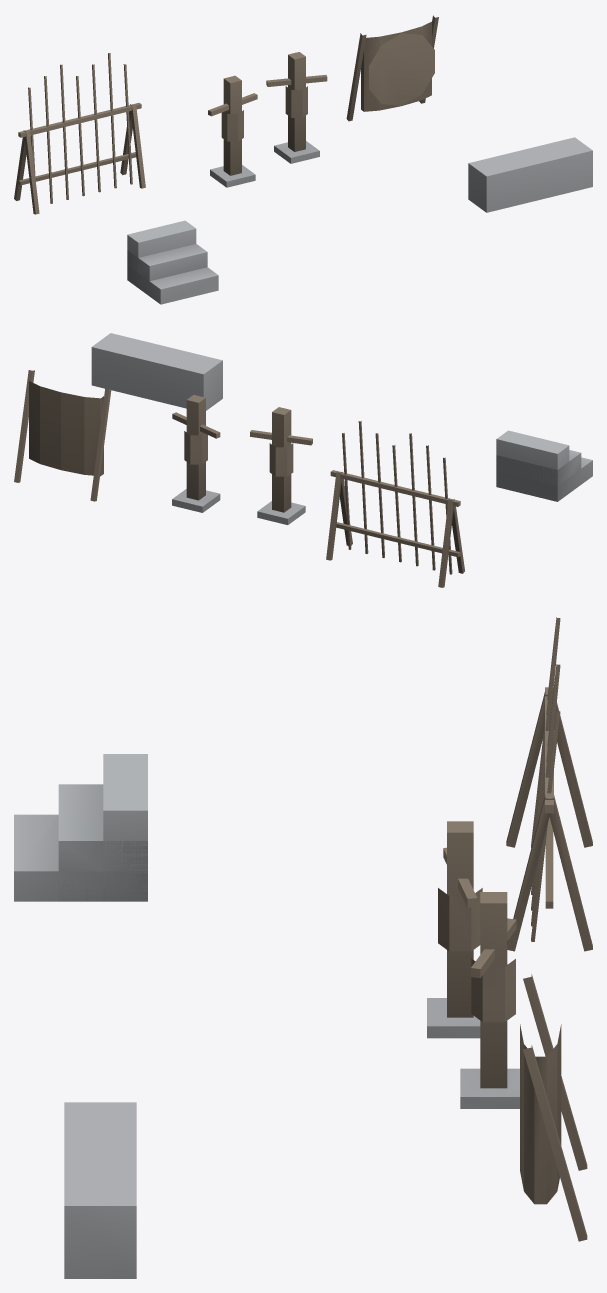
File: sg_drill.glb
3 views of the same model, one above another, from view 1: azimuth 30°, elevation 25°; view 2: azimuth 150°, elevation 25°; view 3: azimuth 270°, elevation 25° (orthographic). The views are drawn at different scales.
Parts seen in each view (by area): view 1: sg_drill_SG_Joinery, sg_drill_SG_Stone; view 2: sg_drill_SG_Joinery, sg_drill_SG_Stone; view 3: sg_drill_SG_Stone, sg_drill_SG_Joinery.
Part boxes in pixels (left/top/right/bottom): sg_drill_SG_Joinery: left=14, top=15, right=438, bottom=214; sg_drill_SG_Stone: left=127, top=137, right=592, bottom=304; sg_drill_SG_Joinery: left=14, top=370, right=464, bottom=587; sg_drill_SG_Stone: left=91, top=333, right=592, bottom=524; sg_drill_SG_Stone: left=14, top=754, right=519, bottom=1278; sg_drill_SG_Joinery: left=438, top=617, right=592, bottom=1241.
Size of the model in its own units: 9.35 by 2.61 by 5.19.
